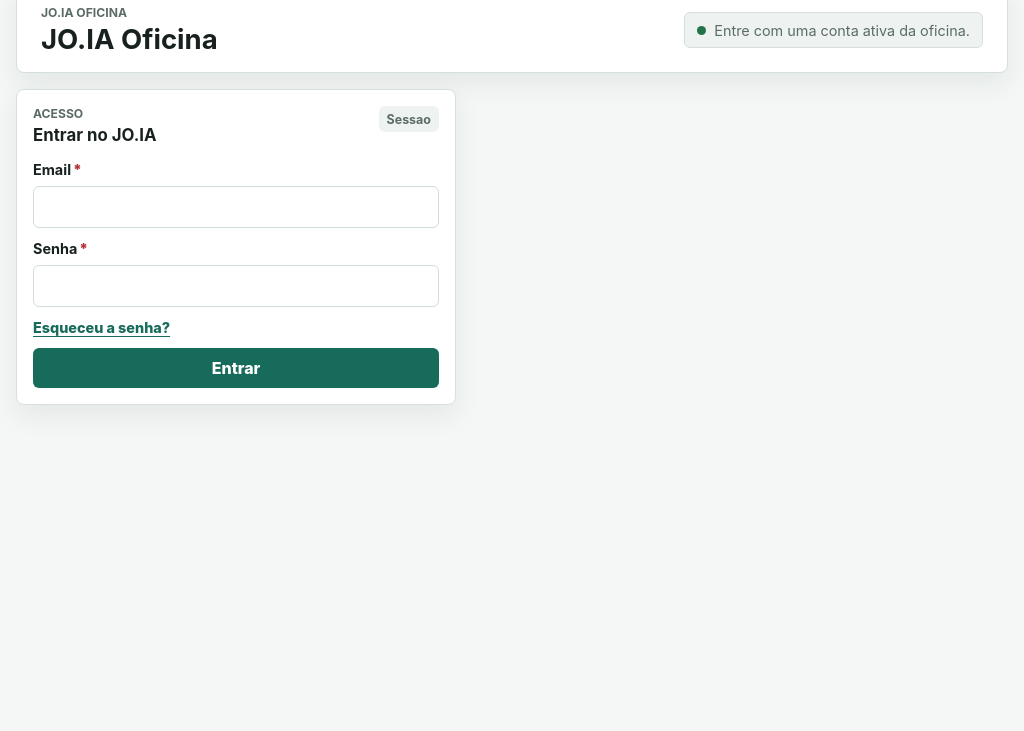
it: JO.IA reception agenda UI › D-12/D-17 exposes Agenda navigation and renders weekly appointments as the configured agenda
In the field labelled "Email": (236, 207) top-left (33, 186), bottom-right (439, 228), type "admin@joia.local"
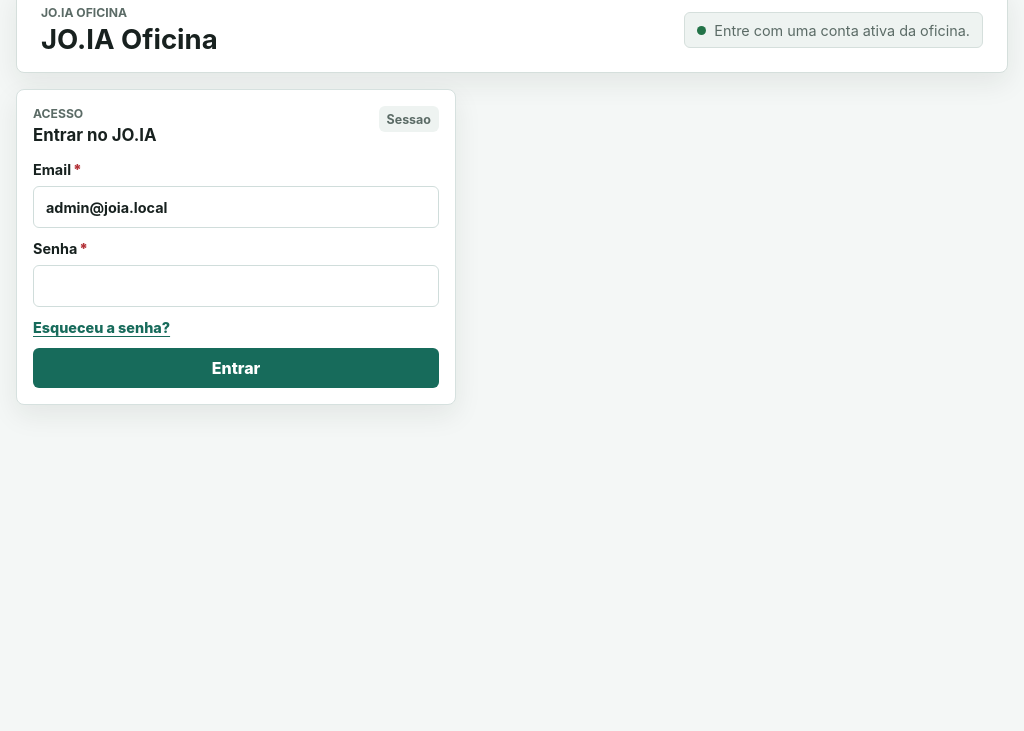
In the password field labelled "Senha": (236, 286) top-left (33, 265), bottom-right (439, 307), type "senha-segura-123"
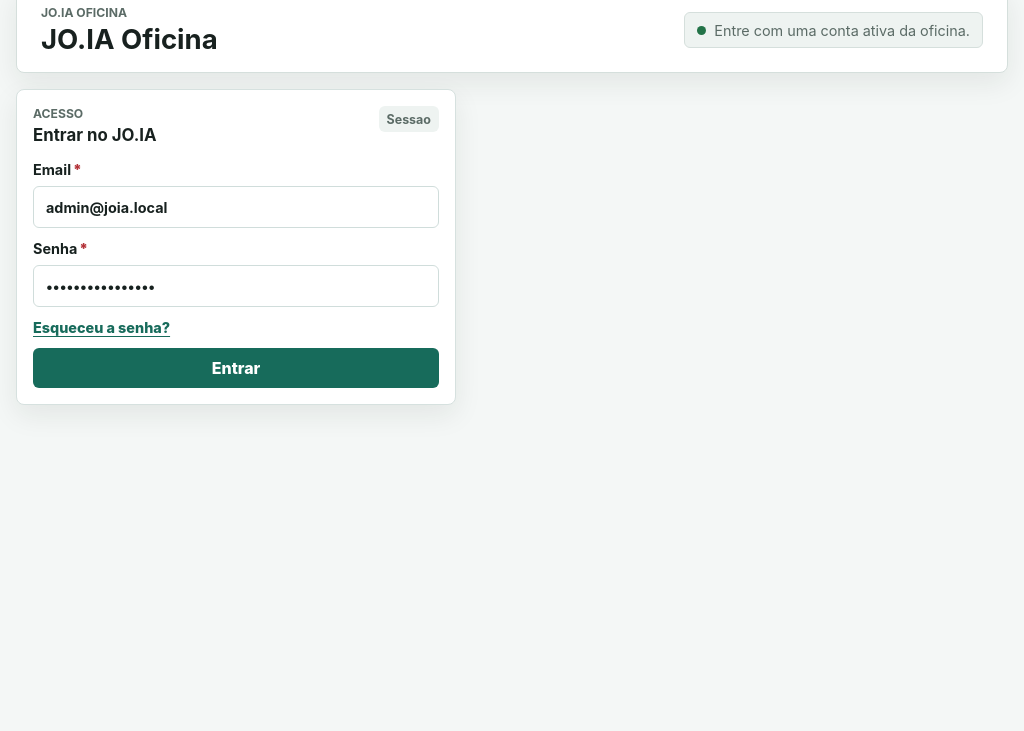
Click the button "Entrar": (236, 368) top-left (33, 348), bottom-right (439, 388)
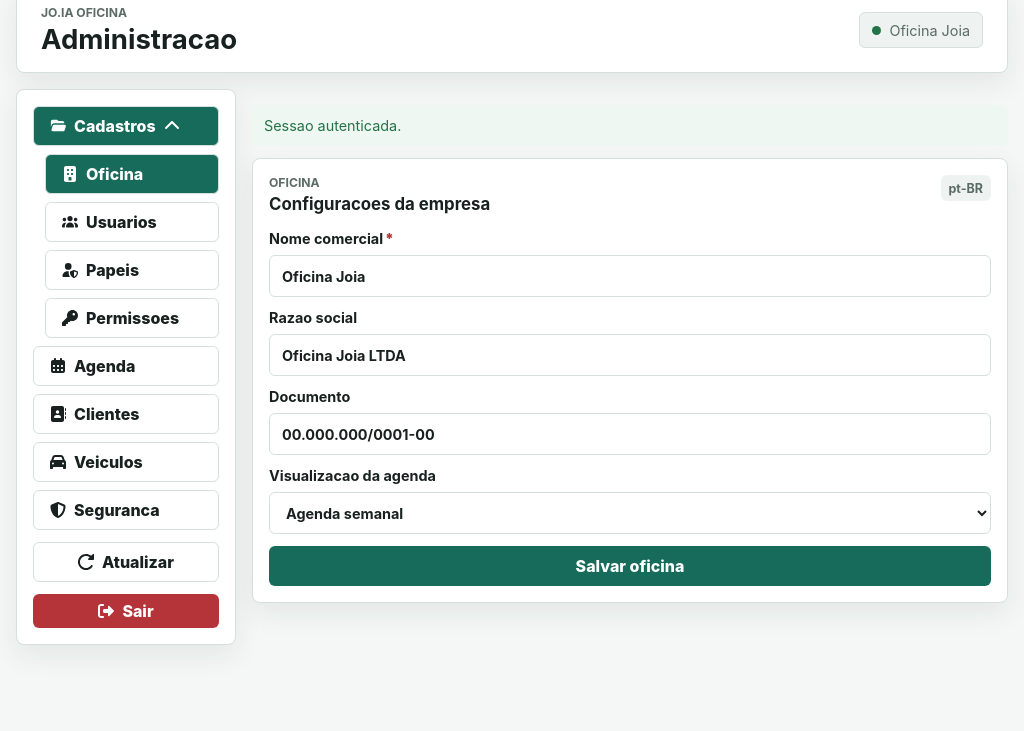
Expected: the heading "Administracao" is shown, top-left (41, 24), bottom-right (237, 55)
Click the button "Agenda": (126, 366) top-left (33, 346), bottom-right (219, 386)
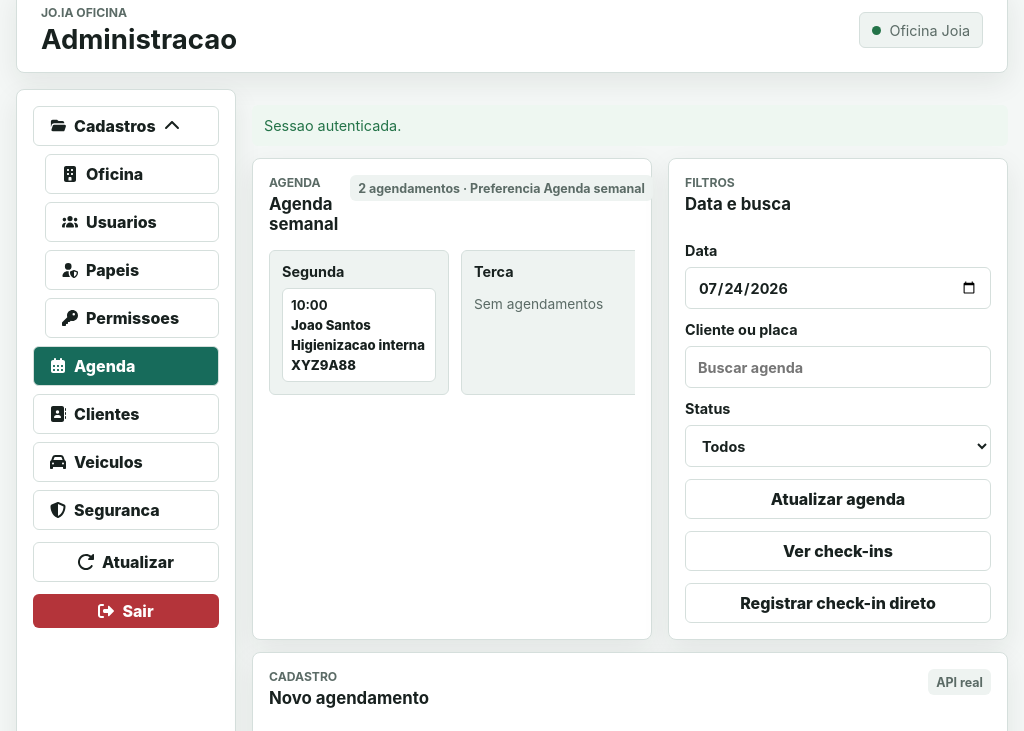
Expected: the element named "Agenda semanal" shows "Segunda", top-left (282, 263), bottom-right (344, 280)
Expected: the element named "Agenda semanal" shows "Joao Santos"
Expected: the element named "Agenda semanal" shows "Higienizacao interna"
Click the button "10:00 Joao Santos Higienizacao interna XYZ9A88": (359, 335) top-left (282, 288), bottom-right (436, 382)
(page scrolled)
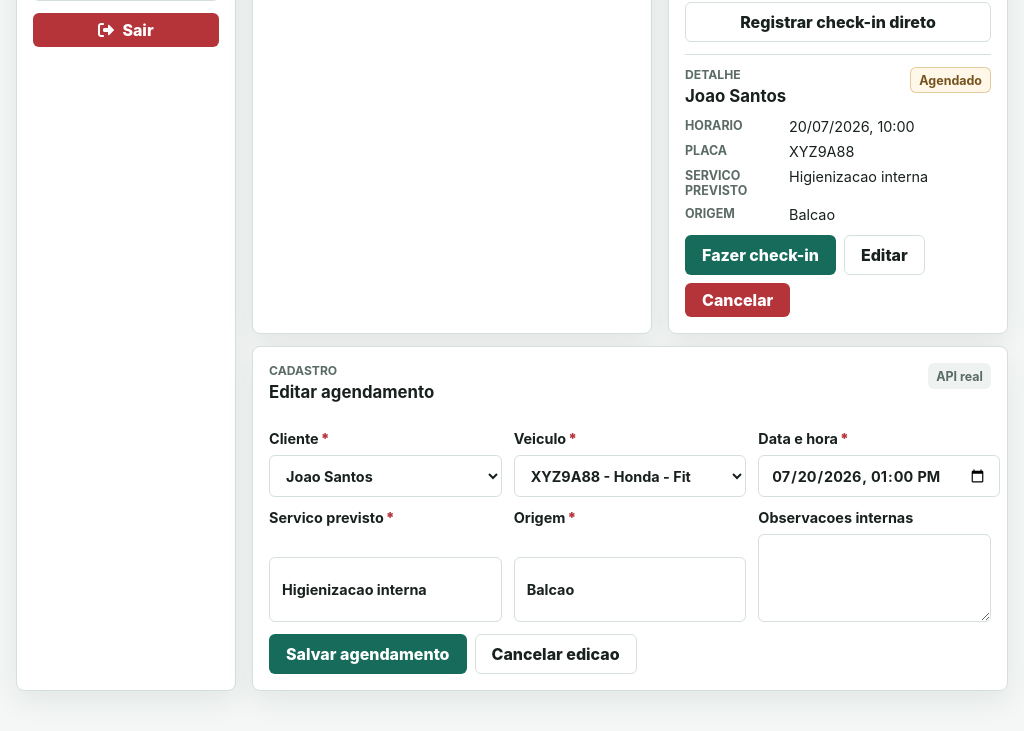
Expected: the form "agendamento" shows "Editar agendamento", top-left (269, 382), bottom-right (434, 402)
Expected: the field labelled "Servico previsto" holds "Higienizacao interna", top-left (269, 557), bottom-right (502, 622)
